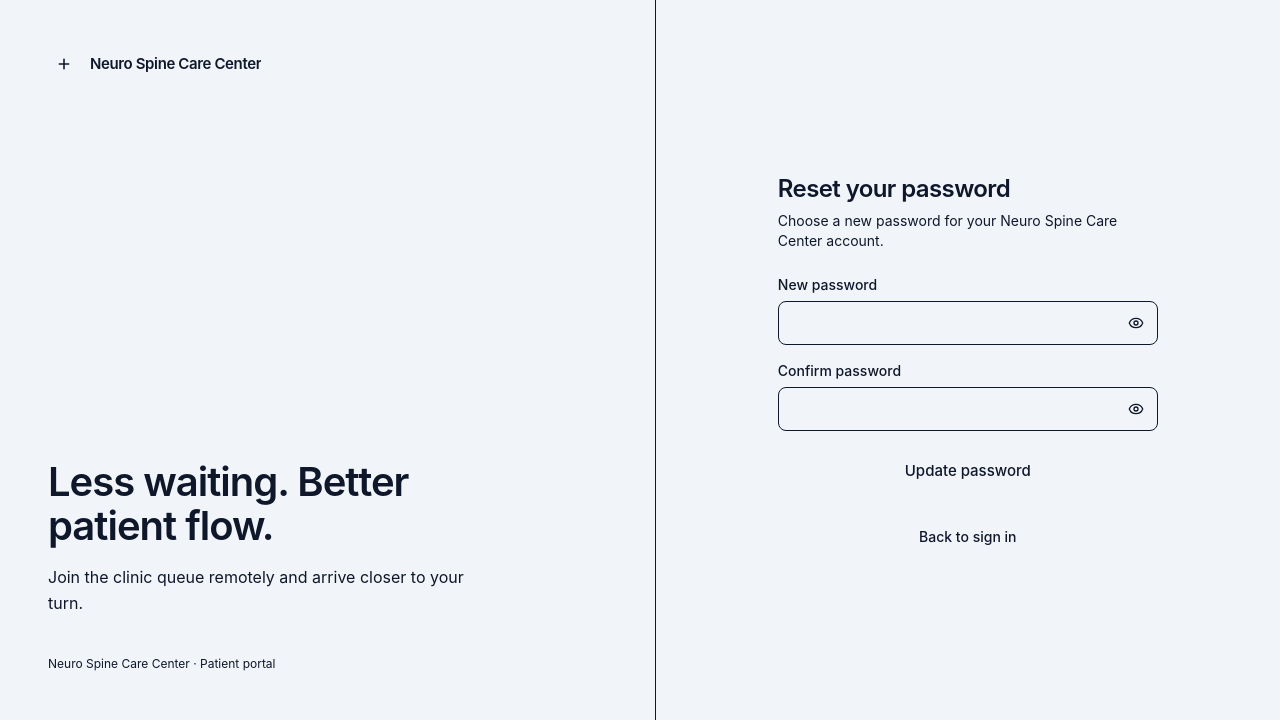
Test case: verifies the email code, removes it from the URL and validates matching passwords
Type "NewPassword123!" into the password field labelled "New password" at (968, 323), box [778,301,1158,345]
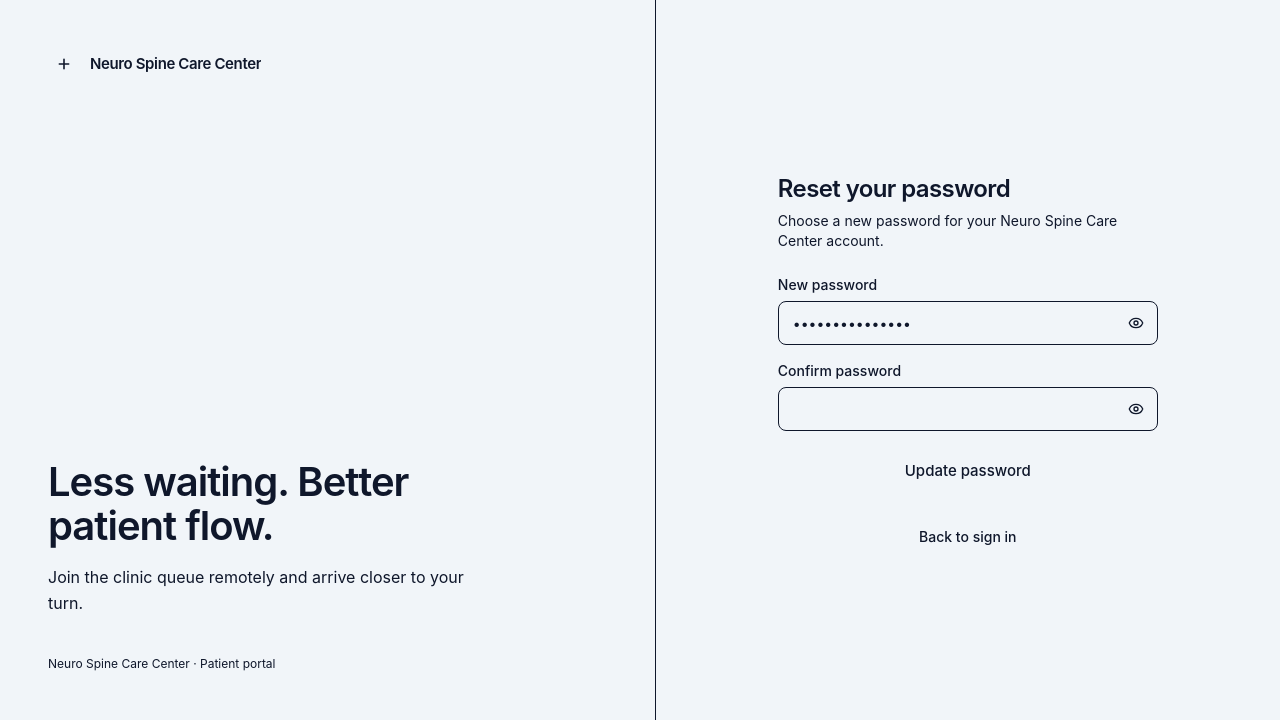
Type "Different123!" into the password field labelled "Confirm password" at (968, 409), box [778,387,1158,431]
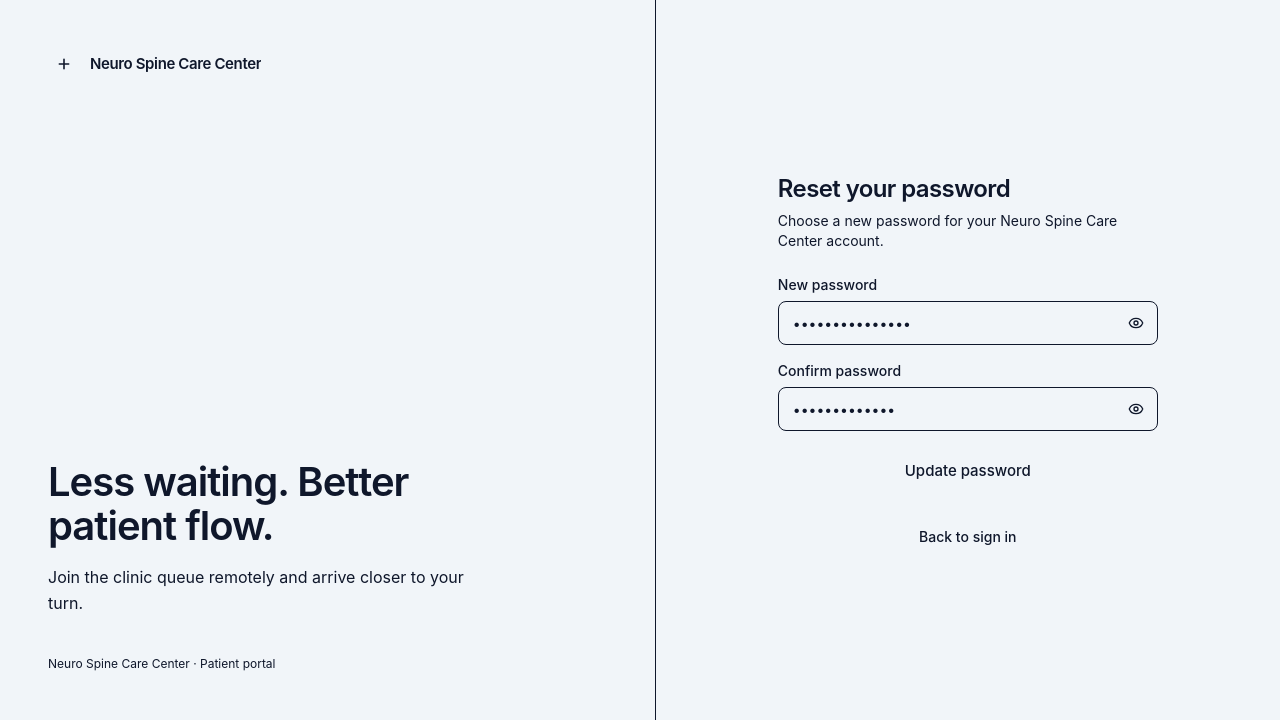
Click the button "Update password" at (968, 471), box [778,447,1158,495]
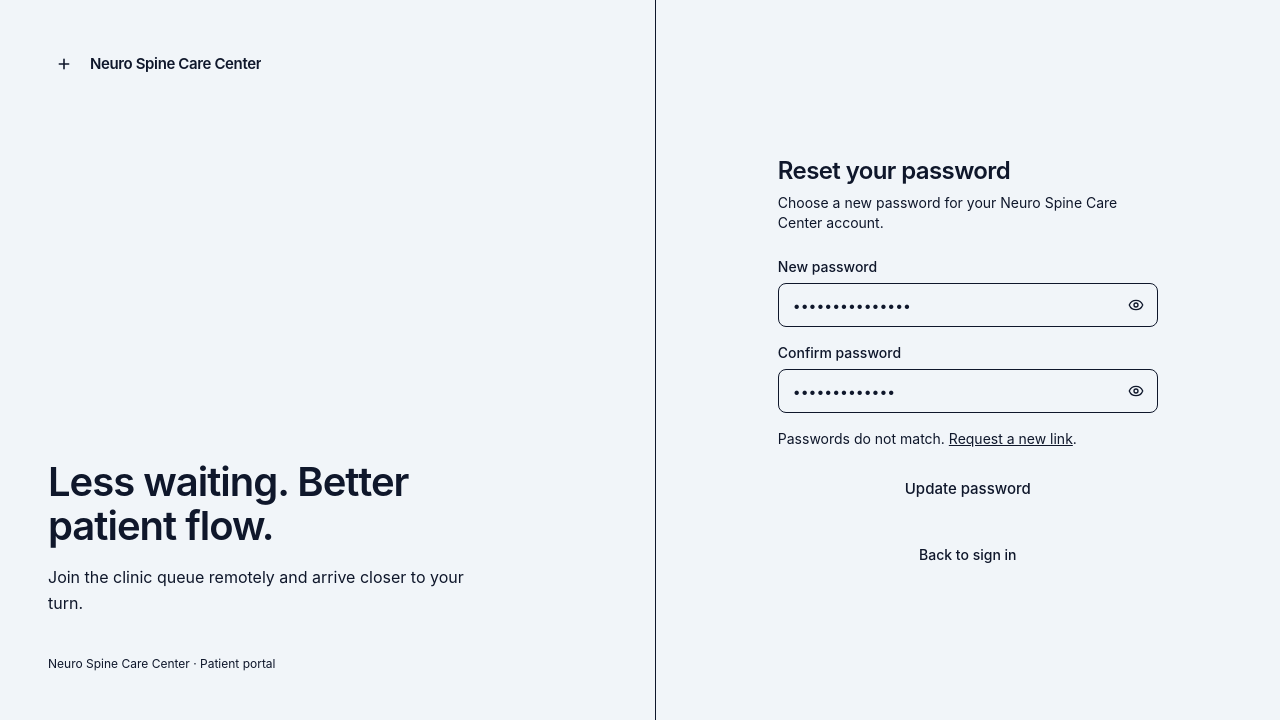
Check: the message shows "Passwords do not match", box [778,430,945,447]
Type "NewPassword123!" into the password field labelled "Confirm password" at (968, 391), box [778,369,1158,413]
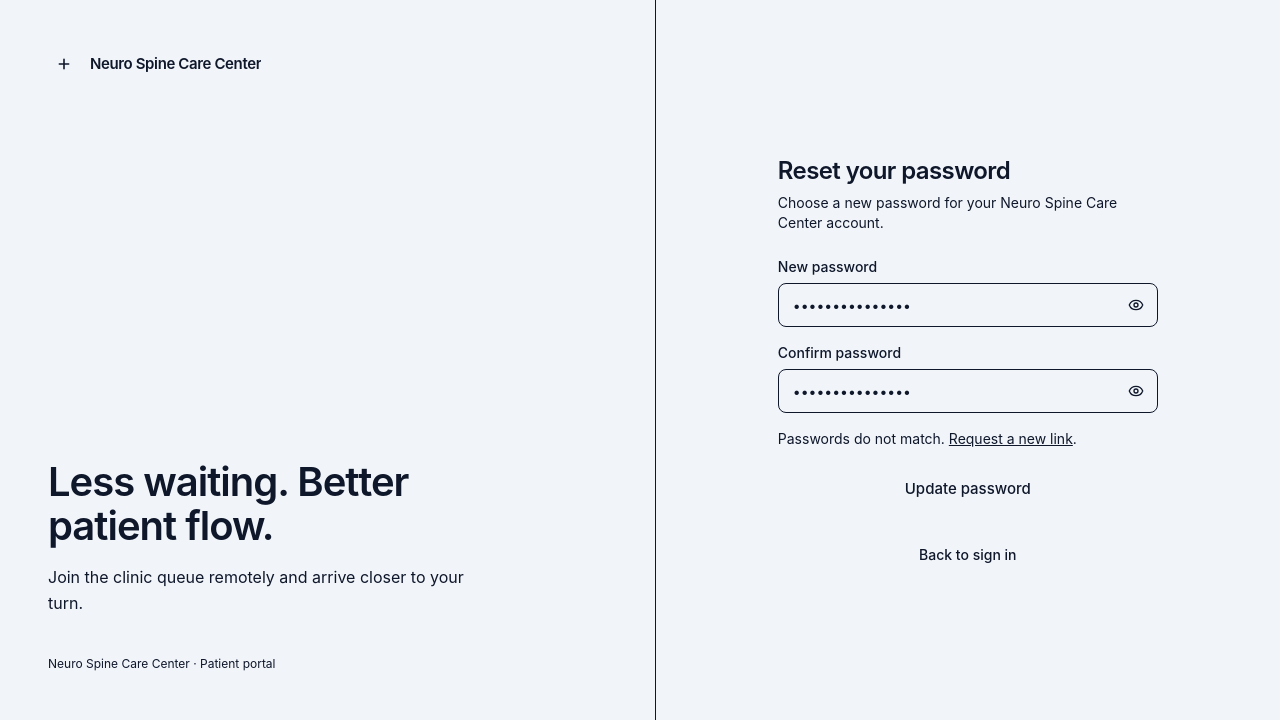
Click the button "Update password" at (968, 489), box [778,465,1158,513]
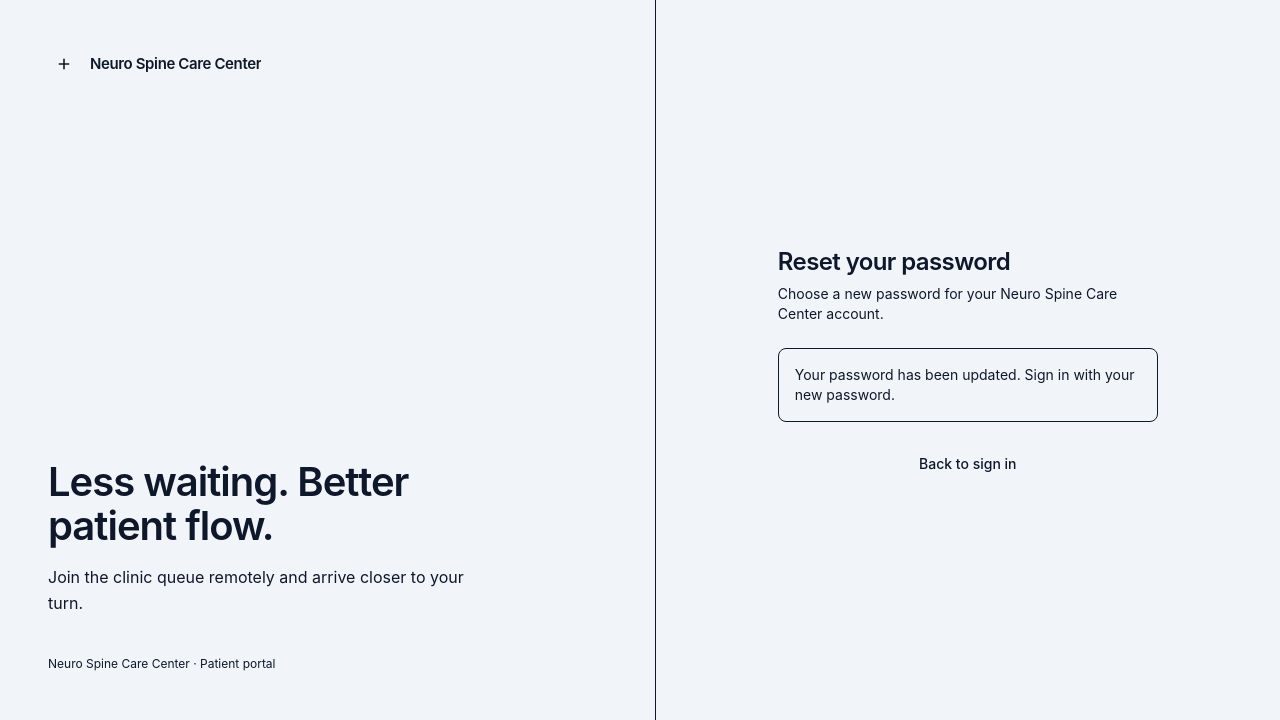
Check: the message shows "password has been updated", box [795,366,1135,403]
